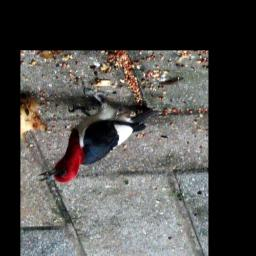Woodpecker: (34, 83, 161, 188)
